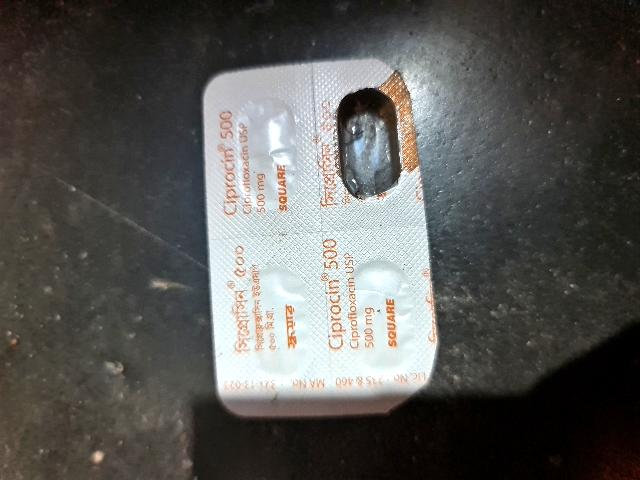medicine: (189, 62, 441, 422)
